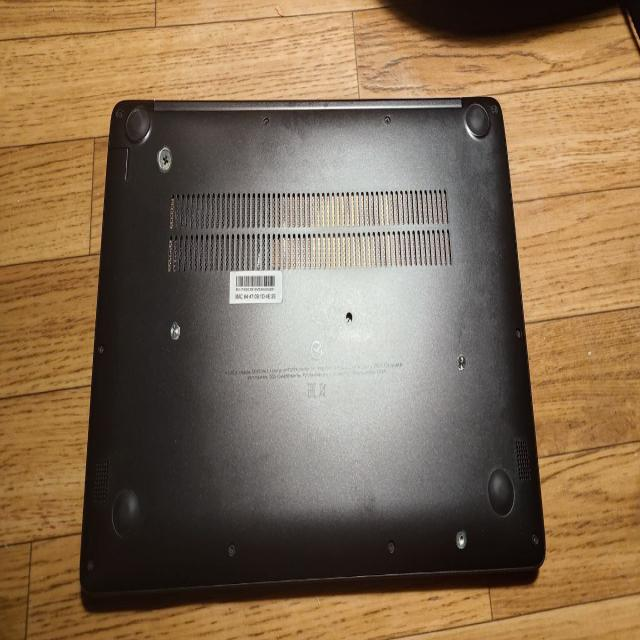lock: (156, 145, 172, 172), (170, 322, 180, 340), (456, 354, 466, 370)
missing_screw: (456, 529, 466, 548)
